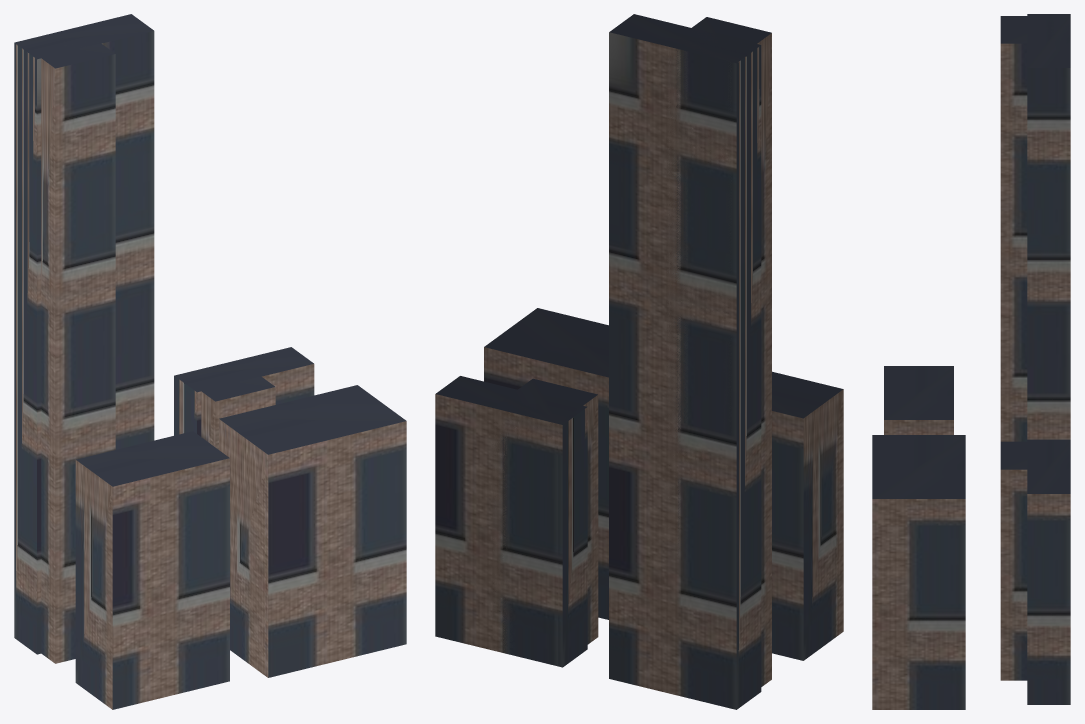
File: city_block_12345_6_12.glb
3 renders of one model, left to right at view 1: azimuth 30°, elevation 25°; view 2: azimuth 150°, elevation 25°; view 3: azimuth 270°, elevation 25°, orthographic. The views are drawn at different scales.
Visible parts, largest first — view 1: block_12; view 2: block_12; view 3: block_12.
Part boxes in pixels (left/top/right/bottom): block_12: left=14, top=14, right=406, bottom=709; block_12: left=435, top=14, right=843, bottom=709; block_12: left=872, top=14, right=1070, bottom=709.
Bounding box in the file's own units: 4.05 × 8 × 2.55.
4 materials, 4 textured.
